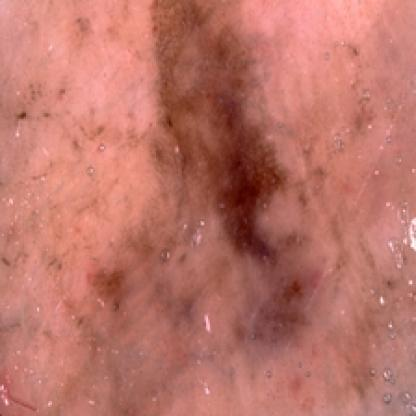Skin_Cancer-Malignant: (149, 1, 292, 267)
